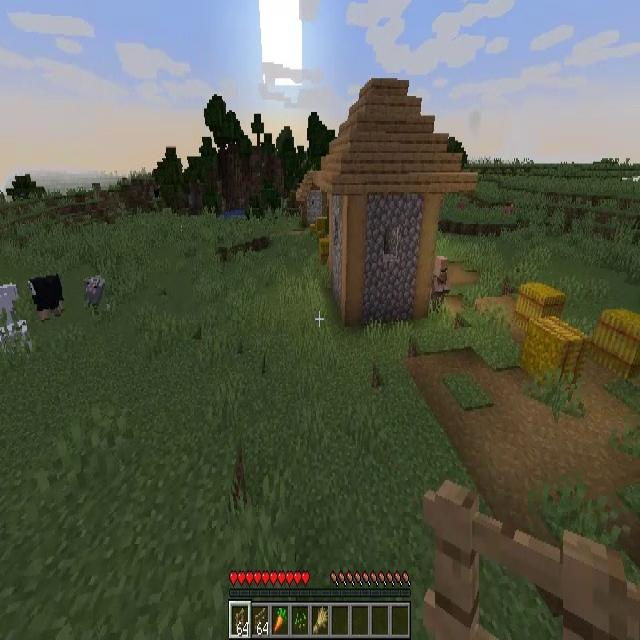people: (432, 257, 450, 312)
sheep: (30, 276, 64, 318), (1, 283, 19, 325), (84, 277, 105, 310)
